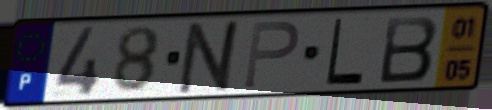4: (53, 24, 104, 99)
8: (109, 25, 164, 94)
B: (376, 13, 441, 86)
L: (323, 16, 367, 87)
N: (174, 17, 248, 97)
P: (240, 19, 302, 91)
